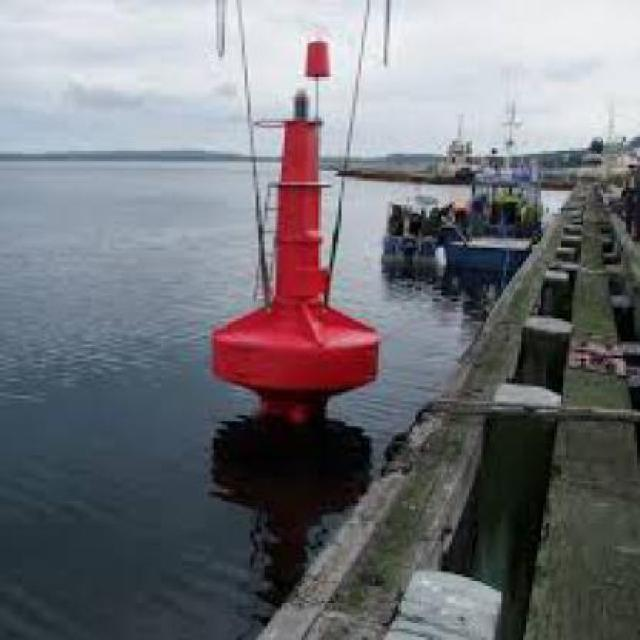buoy: (200, 35, 394, 433)
